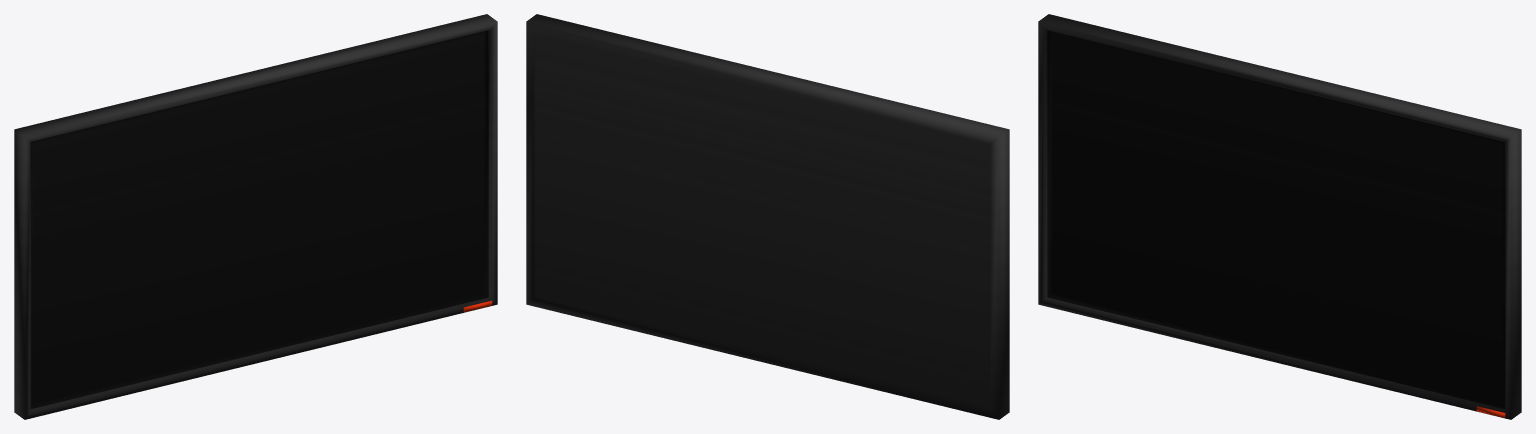
Rendered from SM_Props_1.fbx.
3 views of the same model, side by side, from view 1: azimuth 30°, elevation 25°; view 2: azimuth 150°, elevation 25°; view 3: azimuth 330°, elevation 25° (orthographic).
Parts seen in each view (by area): view 1: SM_Props_1; view 2: SM_Props_1; view 3: SM_Props_1.
Part boxes in pixels (bbox=[...]): SM_Props_1: bbox=[14, 14, 497, 419]; SM_Props_1: bbox=[526, 14, 1009, 419]; SM_Props_1: bbox=[1038, 14, 1521, 419].
Bounding box in the file's own units: 140 × 80 × 5.74.
Materials: 1 (1 with a texture image).
